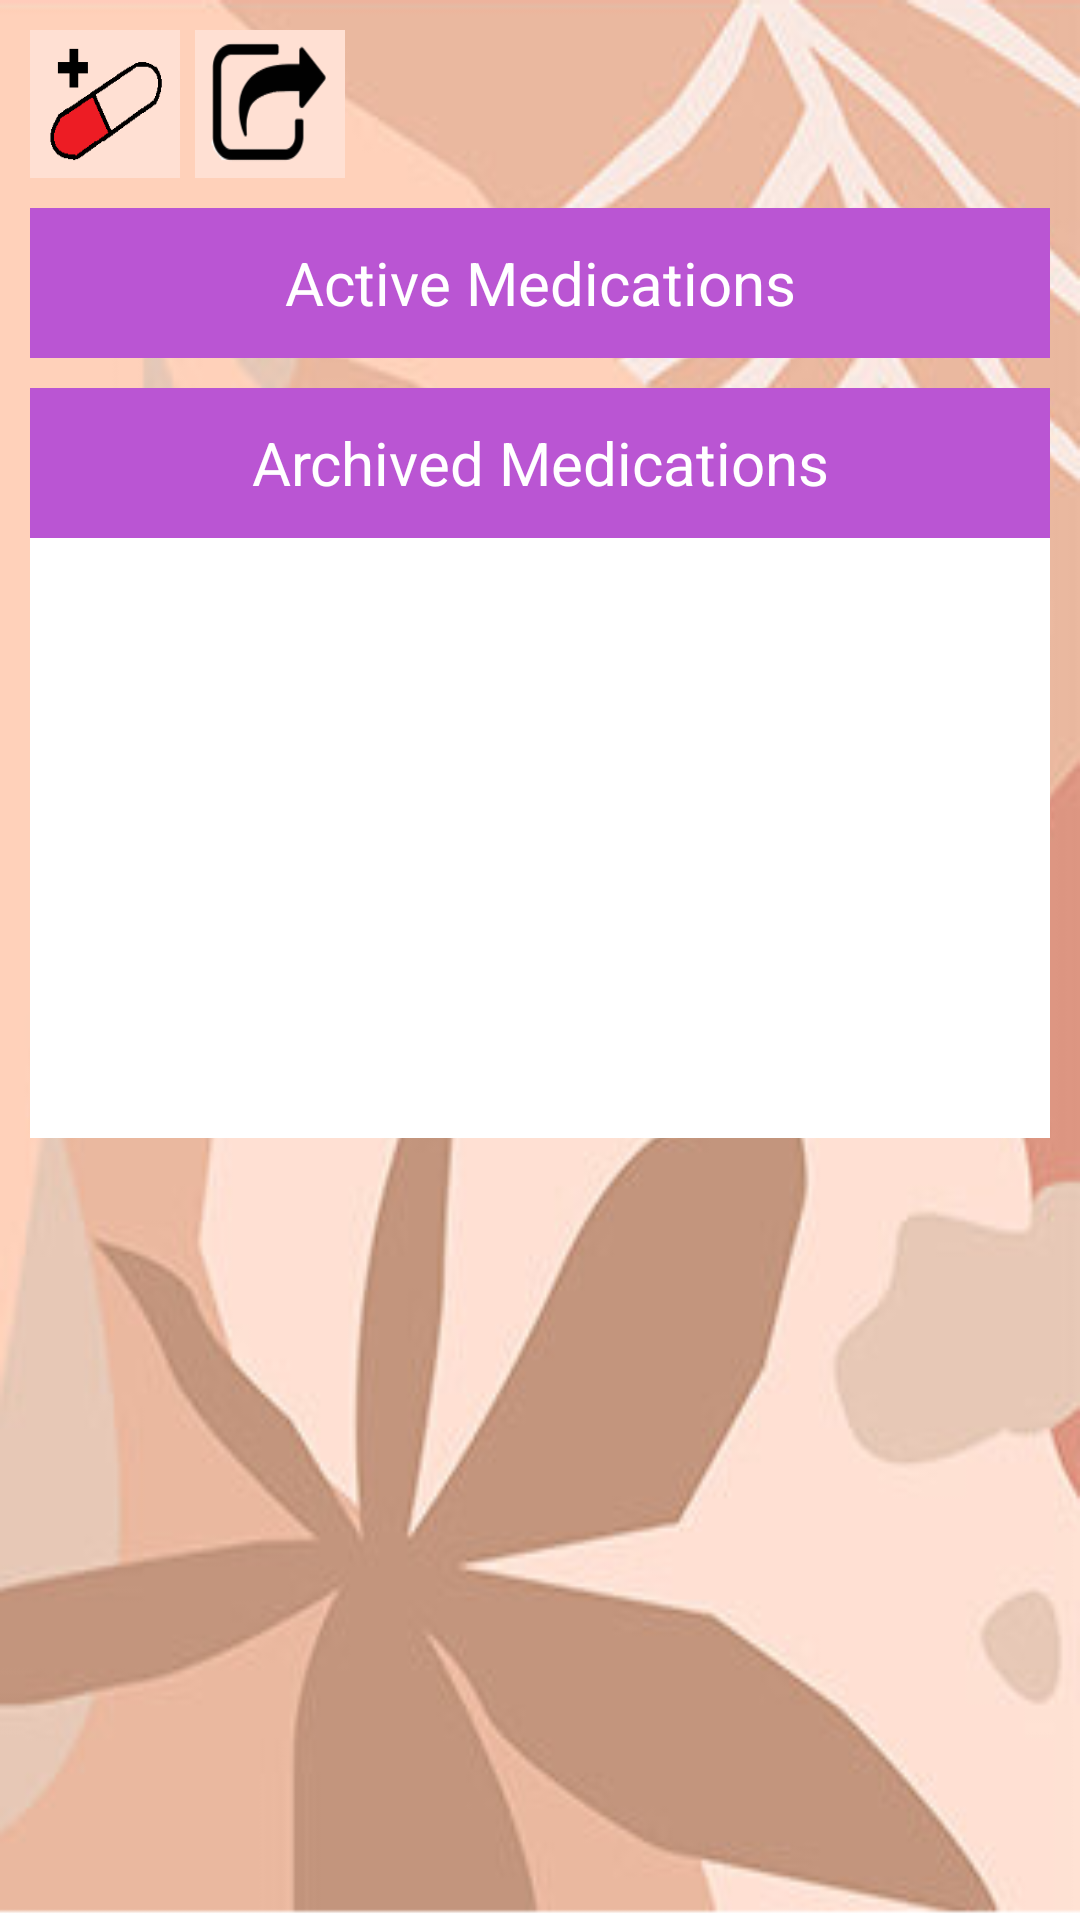

Icon bounding boxes for this 1080px x 1920px phone screenshot, format [x1,y1,x2,y2]:
addmed: [30,30,180,178]
